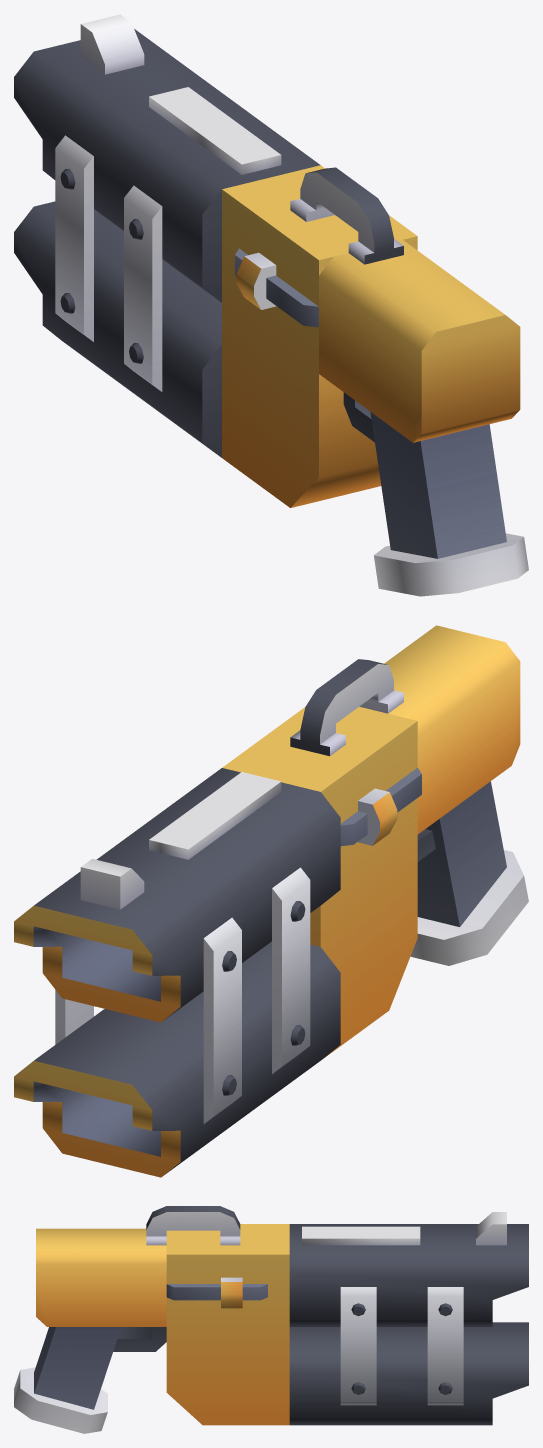
The model's file is blaster-q.glb.
The picture shows the model from 3 angles, top to bottom: view 1: azimuth 30°, elevation 25°; view 2: azimuth 150°, elevation 25°; view 3: azimuth 270°, elevation 25°; orthographic projection. The views are drawn at different scales.
Parts seen in each view (by area): view 1: blaster-q; view 2: blaster-q; view 3: blaster-q.
Part boxes in pixels (x1=…): blaster-q: x1=14, y1=14, x2=528, y2=596; blaster-q: x1=14, y1=625, x2=528, y2=1177; blaster-q: x1=14, y1=1206, x2=528, y2=1433.
Size of the model in its own units: 0.17 by 0.3238 by 0.7104.
1 material, 1 textured.
